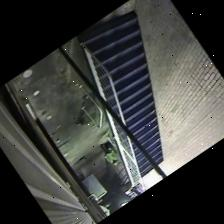person: (100, 143, 117, 164)
